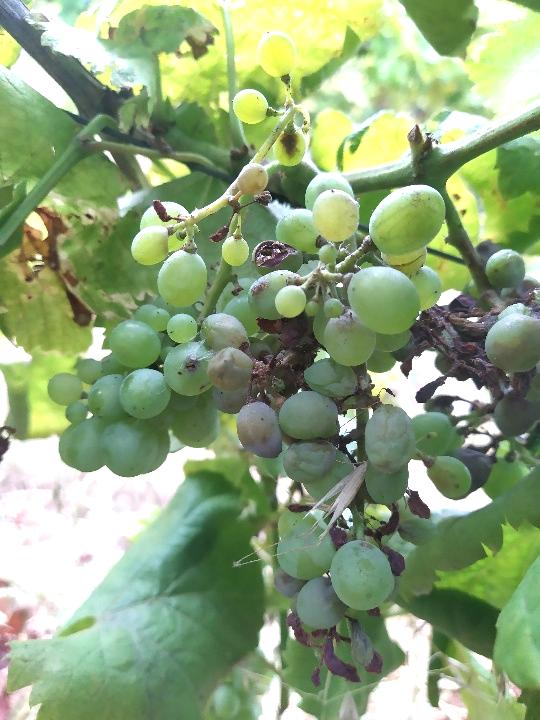grape: (198, 168, 539, 691)
